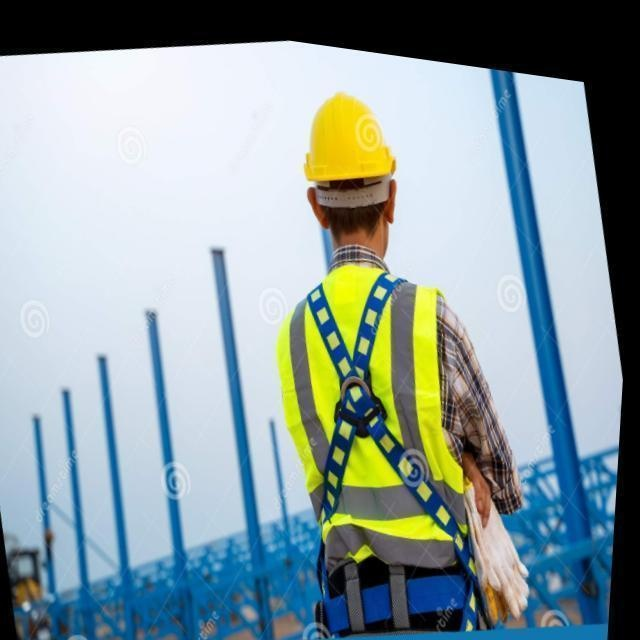Arnes_seguridad: (301, 271, 492, 635)
